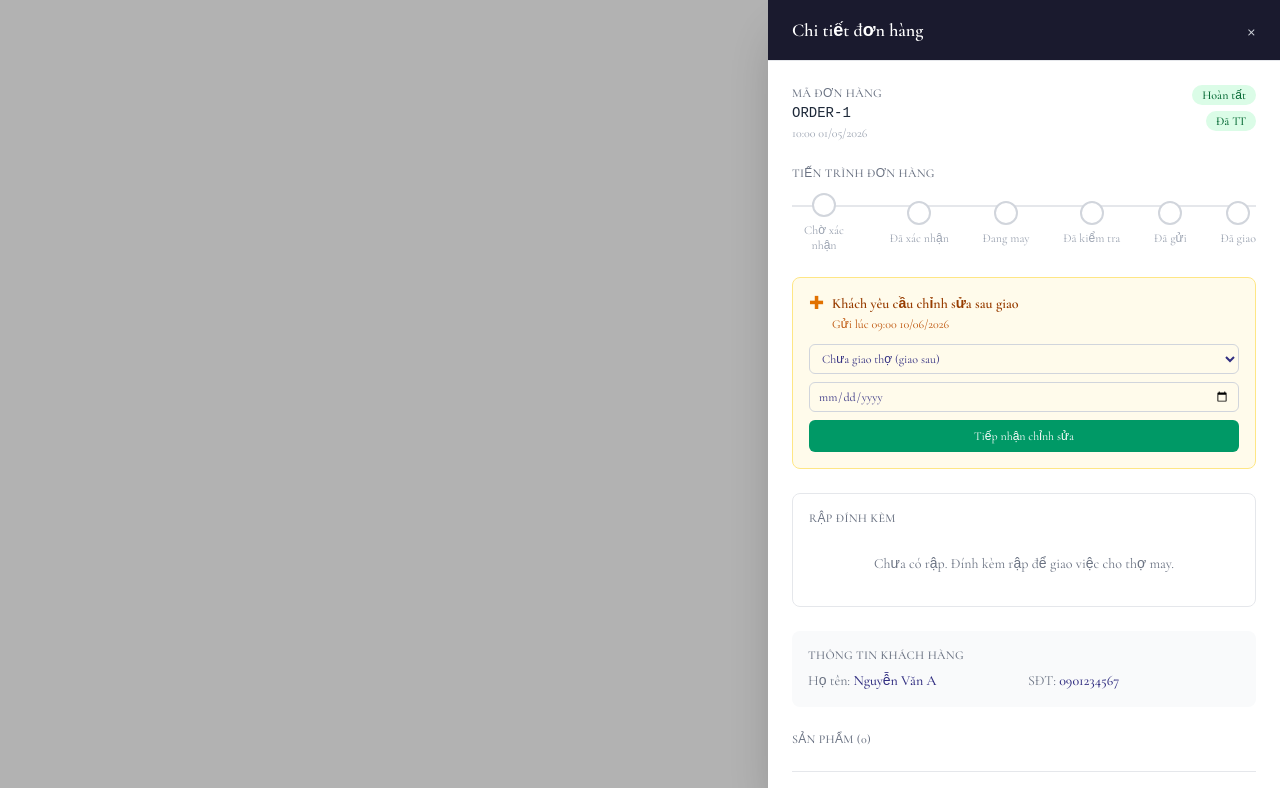
OrderDetailDrawer — alteration approve panel (AC6) › surfaces the backend's 409 copy AND refreshes on conflict
This screenshot has width=1280, height=788.
Step 1. Click the button with test id "alteration-approve-btn" → (1024, 436), box [809,420,1239,452]
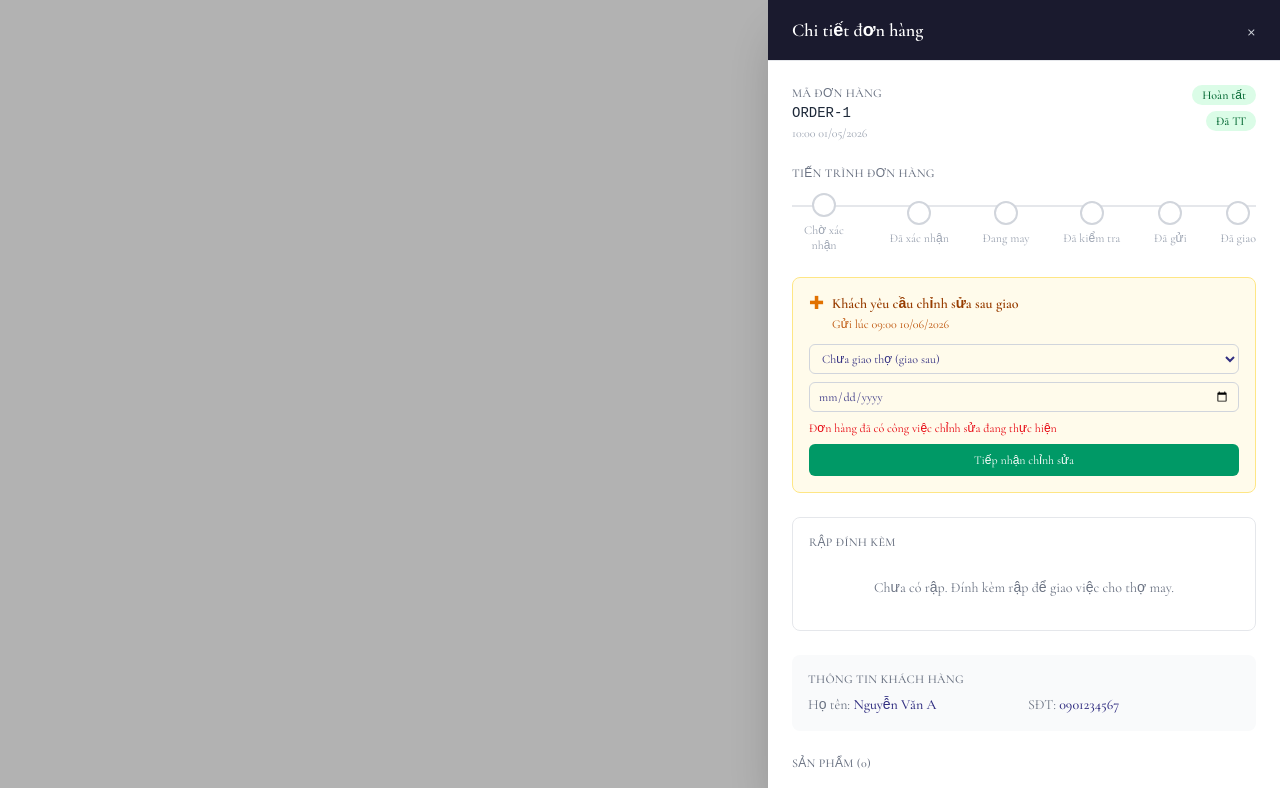
Expected: the text with test id "alteration-approve-error" reads "Đơn hàng đã có công việc chỉnh sửa đang thực hiện", [809,421,1057,435]
